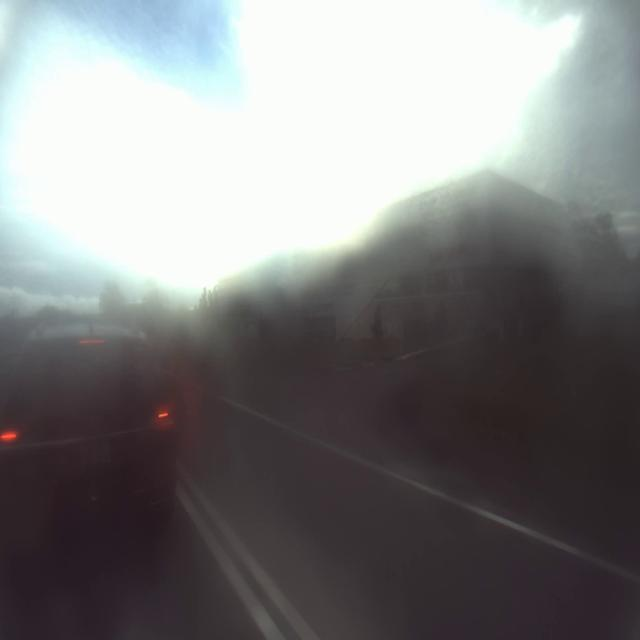car: (9, 310, 171, 540)
